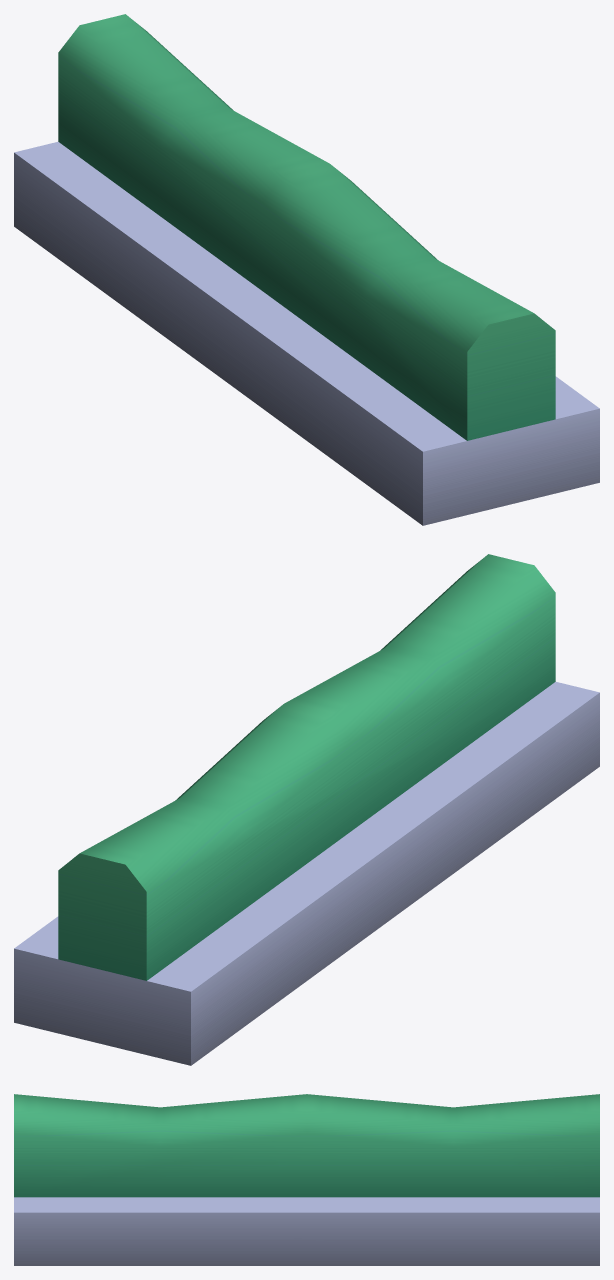
The model's file is hedge.fbx.
3 views of the same model, one above another, from view 1: azimuth 30°, elevation 25°; view 2: azimuth 150°, elevation 25°; view 3: azimuth 270°, elevation 25° (orthographic). The views are drawn at different scales.
Parts seen in each view (by area): view 1: hedge; view 2: hedge; view 3: hedge.
Part boxes in pixels (<box>): hedge: <box>14,14,599,525</box>; hedge: <box>14,554,599,1065</box>; hedge: <box>14,1094,599,1265</box>.
Size of the model in its own units: 25 by 25 by 100.
Materials: 1 (1 with a texture image).
